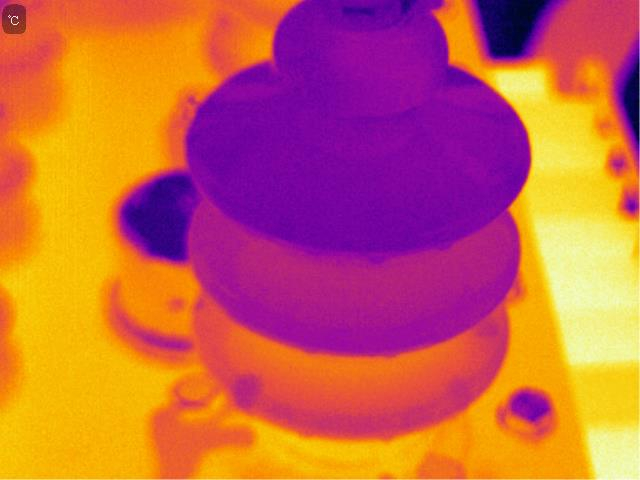Oil: (414, 82, 542, 209), (317, 18, 454, 120), (211, 38, 296, 123), (226, 366, 266, 420), (354, 237, 398, 273)
